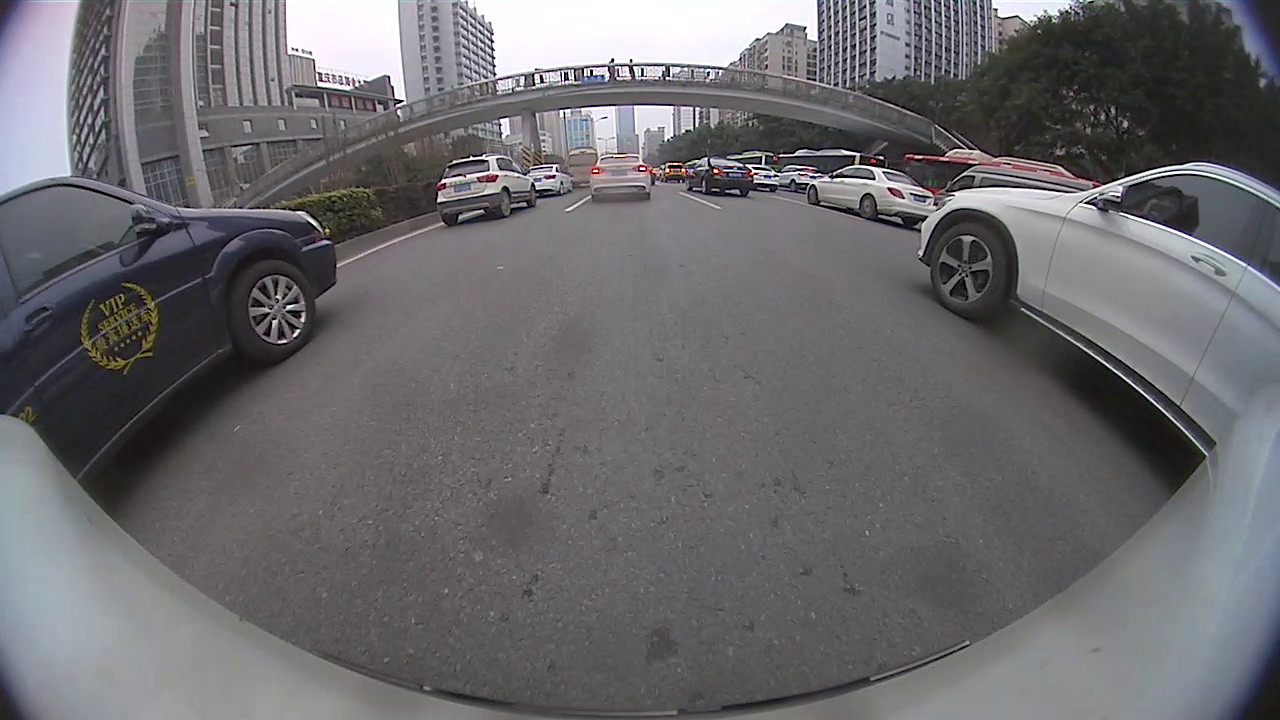car: (915, 159, 1277, 457), (2, 172, 335, 491), (809, 161, 936, 227), (437, 151, 538, 227), (588, 153, 654, 203), (685, 158, 757, 198)
front: (226, 257, 314, 365), (930, 224, 1010, 322), (807, 184, 820, 205), (529, 185, 538, 207)
rear: (859, 193, 876, 220), (499, 187, 512, 219), (700, 177, 709, 194)
